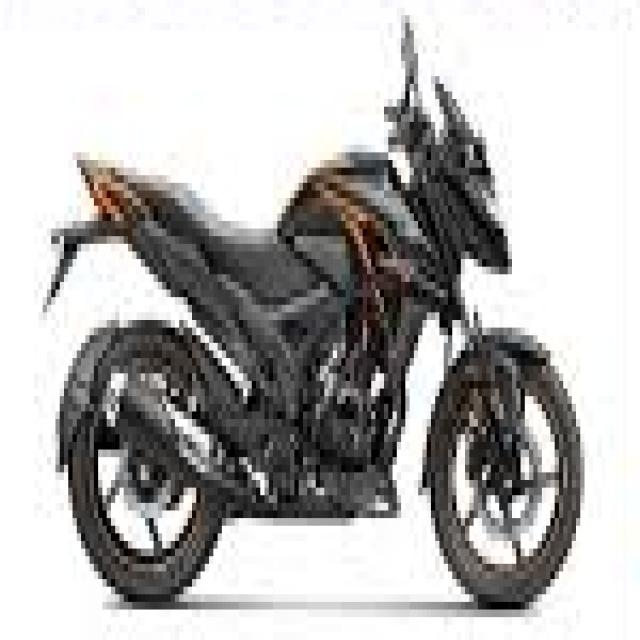bike: (42, 23, 588, 609)
